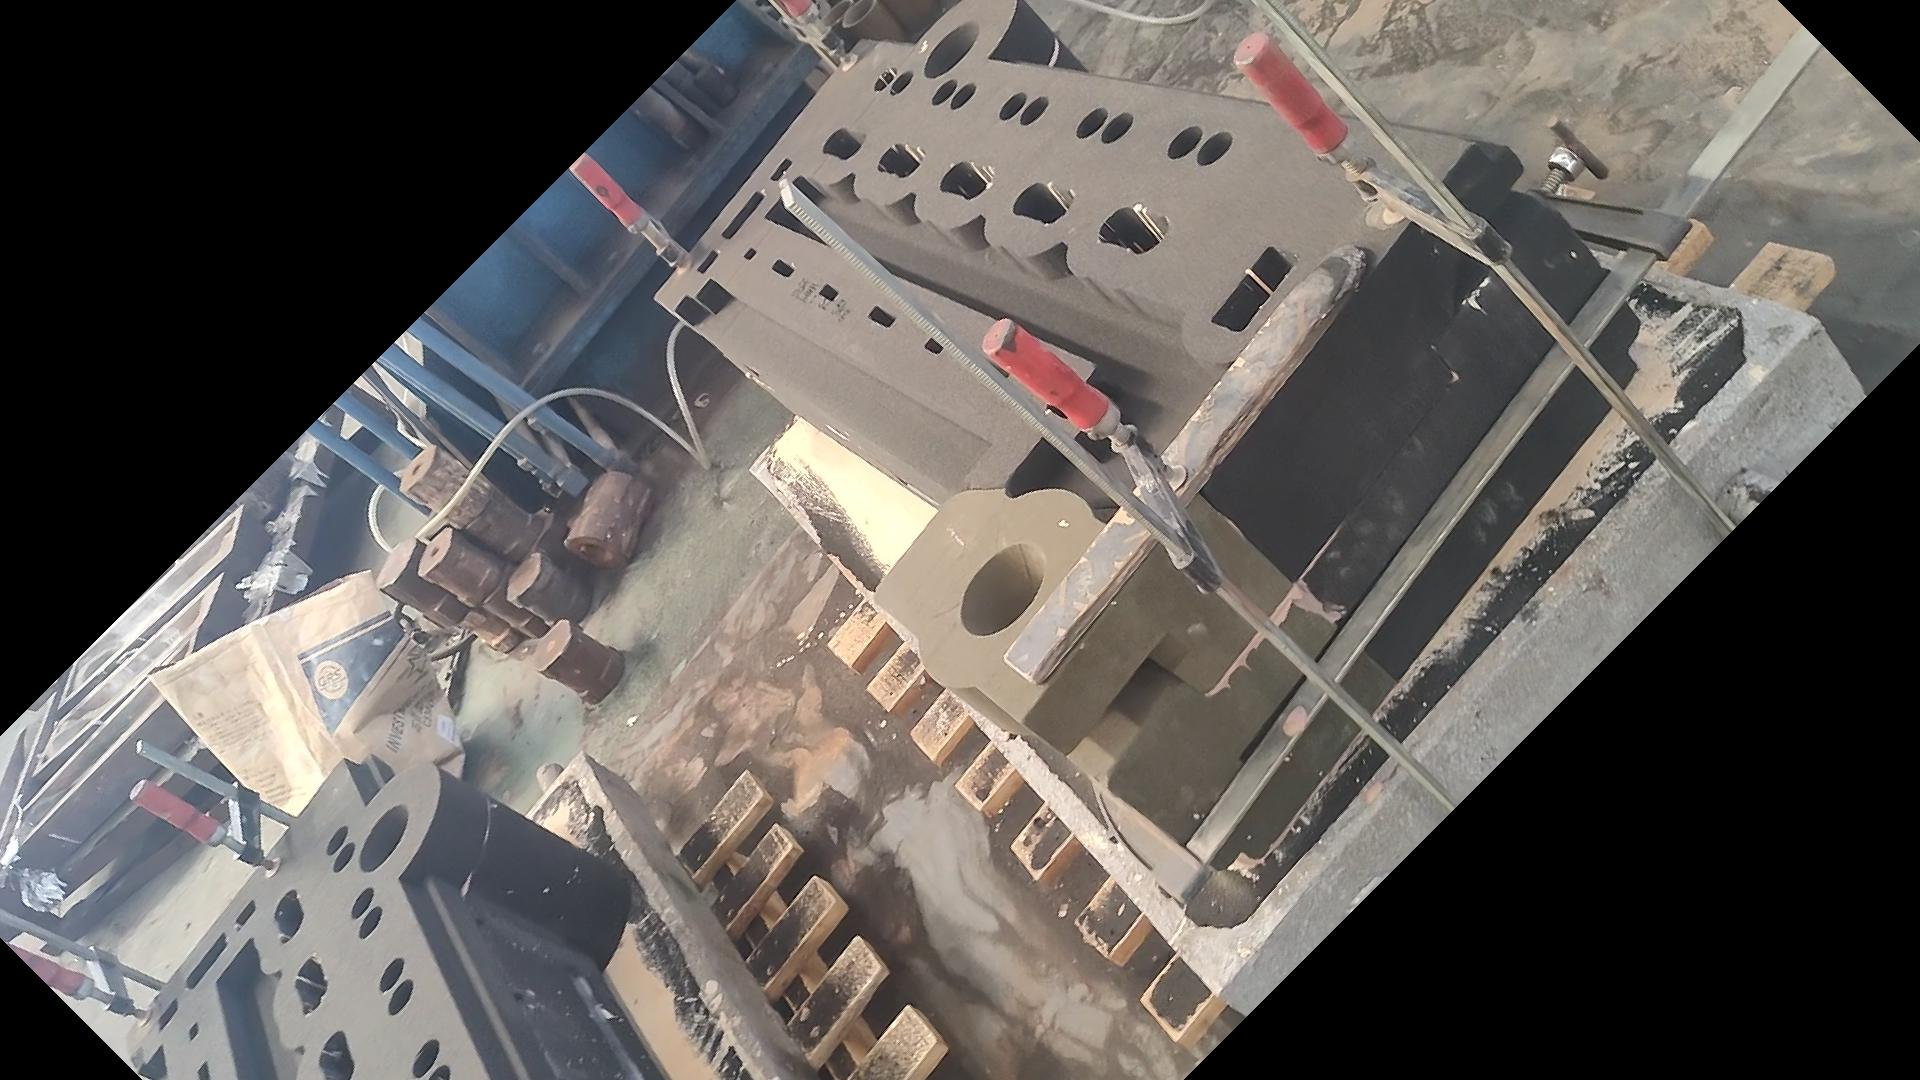pouring hole: (957, 541, 1048, 640), (353, 804, 409, 872), (920, 18, 976, 76), (843, 1, 877, 26), (816, 1, 849, 22)
